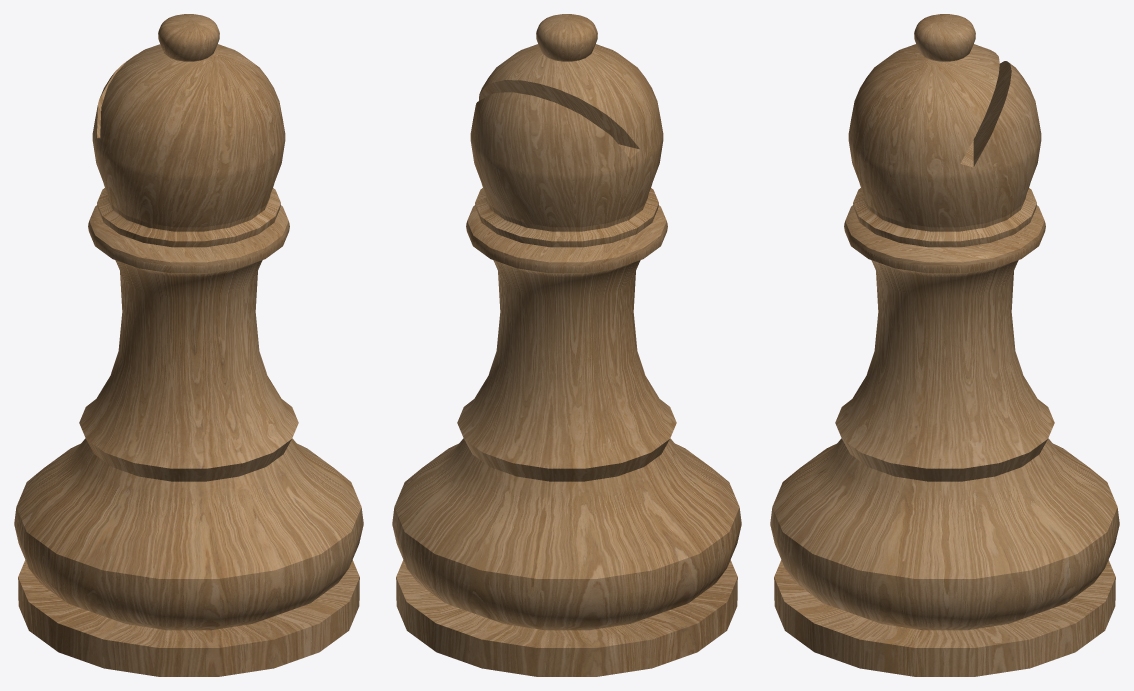
File: white_bishop.obj
3 renders of one model, left to right at view 1: azimuth 30°, elevation 25°; view 2: azimuth 150°, elevation 25°; view 3: azimuth 270°, elevation 25°, orthographic.
Visible parts, largest first — view 1: Bishop_W1_Material_002_0.001; view 2: Bishop_W1_Material_002_0.001; view 3: Bishop_W1_Material_002_0.001.
Boxes of the visible parts, bbox=[...] form: Bishop_W1_Material_002_0.001: bbox=[14, 14, 363, 676]; Bishop_W1_Material_002_0.001: bbox=[392, 14, 741, 676]; Bishop_W1_Material_002_0.001: bbox=[770, 14, 1119, 676].
Size of the model in its own units: 2.75 by 5.23 by 2.79.
